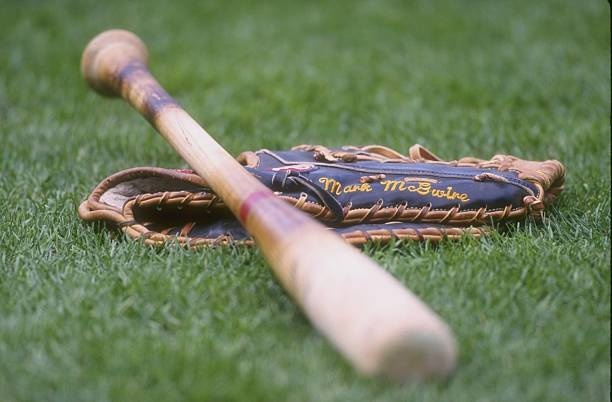bita: (79, 27, 447, 380)
